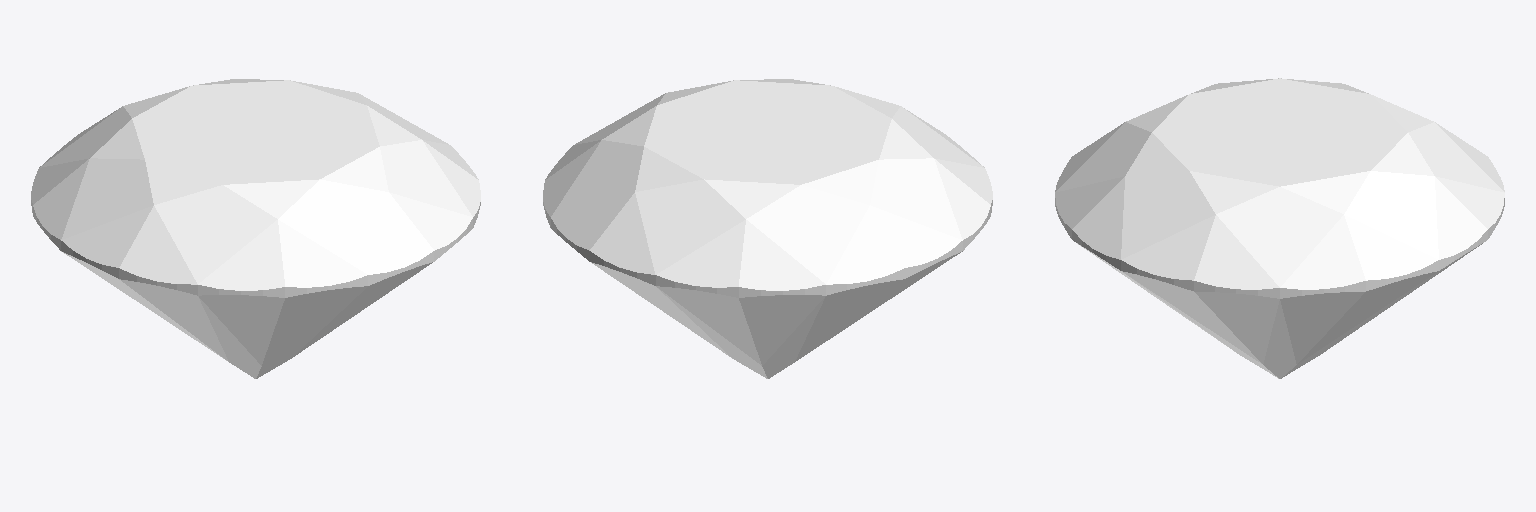
The model's file is Engagement_9mm_Gem.obj.
3 views of the same model, side by side, from view 1: azimuth 30°, elevation 25°; view 2: azimuth 150°, elevation 25°; view 3: azimuth 270°, elevation 25° (orthographic).
Visible parts, largest first — view 1: Round; view 2: Round; view 3: Round.
Part boxes in pixels (left/top/right/bottom): Round: left=31, top=79, right=480, bottom=378; Round: left=543, top=79, right=992, bottom=378; Round: left=1055, top=78, right=1504, bottom=378.
Bounding box in the file's own units: 9 × 5.45 × 9.